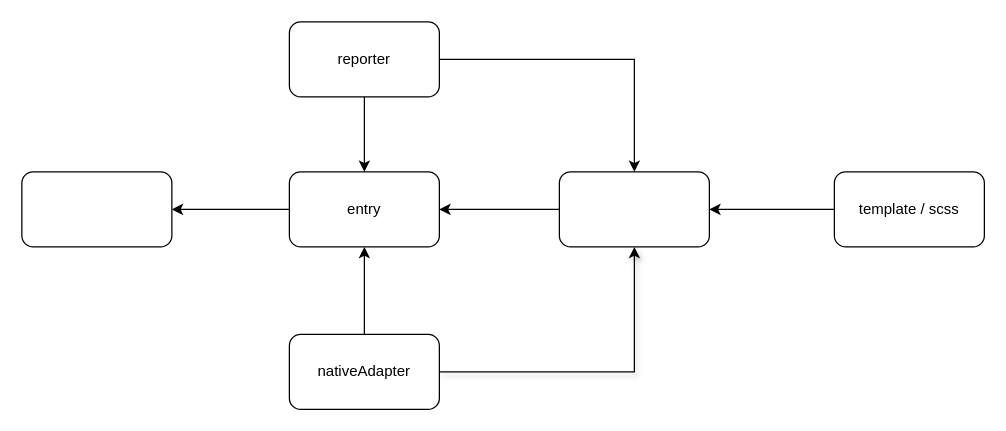
Some shapes in this 1006 by 431 pixel diagram are drawn without their labels. Here are the shapes that lost their labels. From the top down, the centre of each, then its label:
(96,209): dist
(633,209): adMethod
